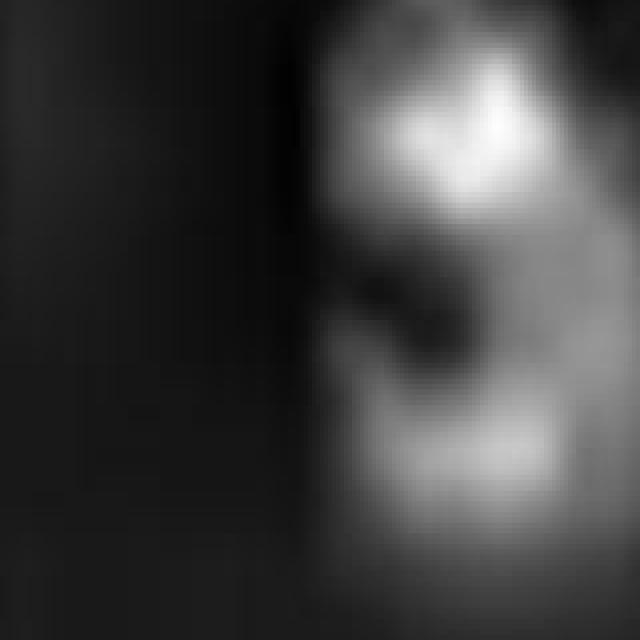person: (309, 1, 640, 614)
